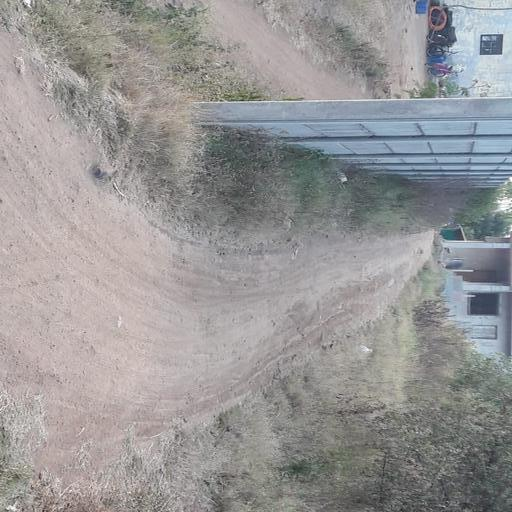vehicle_track: (0, 26, 436, 422)
